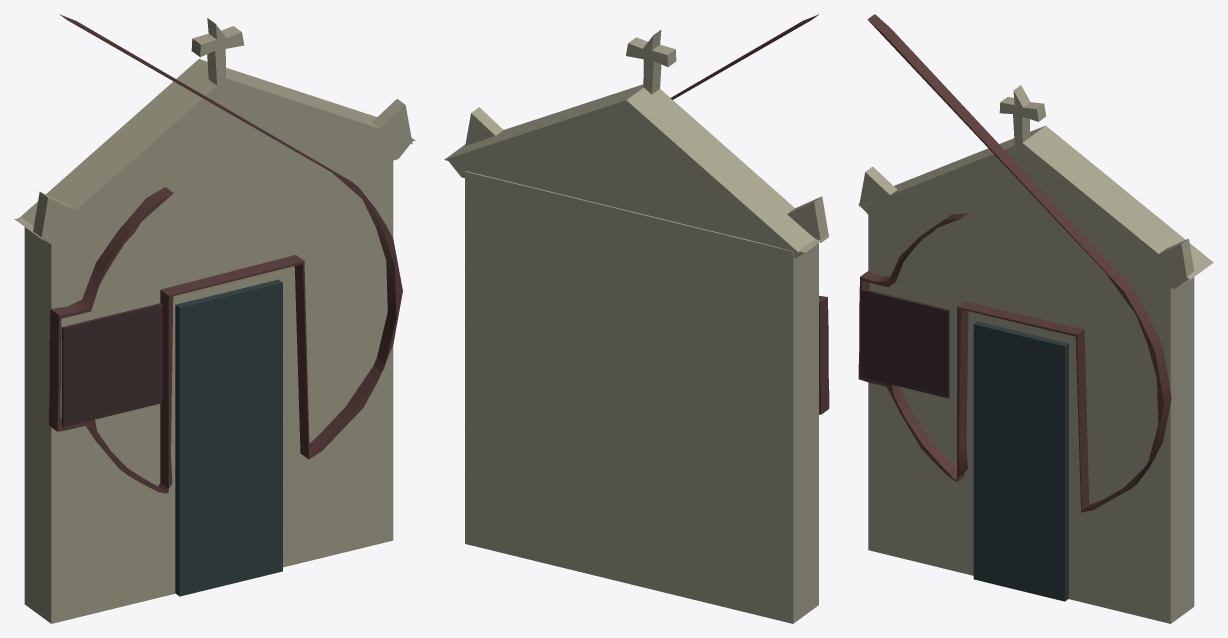
Rendered from jazCesarioVerde.fbx.
The picture shows the model from 3 angles, left to right: view 1: azimuth 30°, elevation 25°; view 2: azimuth 150°, elevation 25°; view 3: azimuth 330°, elevation 25°; orthographic projection. The views are drawn at different scales.
Visible parts, largest first — view 1: root (×9); view 2: root (×7); view 3: root (×9).
Part boxes in pixels (x1,y1,x2,y2): root (×9): [14, 14, 415, 623]; root (×7): [444, 14, 829, 623]; root (×9): [858, 14, 1213, 623].
Size of the model in its own units: 2.54 by 3.94 by 0.4356.
Materials: 9 (9 with a texture image).
